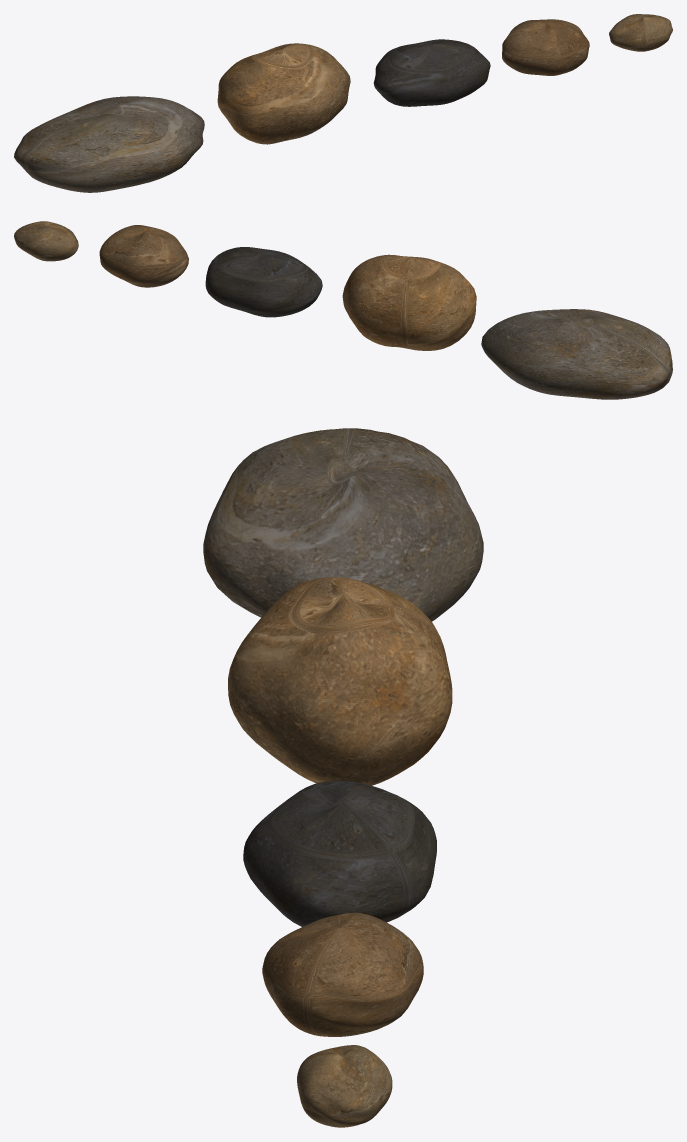
The picture shows the model from 3 angles, top to bottom: view 1: azimuth 30°, elevation 25°; view 2: azimuth 150°, elevation 25°; view 3: azimuth 270°, elevation 25°; orthographic projection. The views are drawn at different scales.
Visible parts, largest first — view 1: RiverPebble_01, RiverPebble_02, RiverPebble_03, RiverPebble_04, RiverPebble_05; view 2: RiverPebble_01, RiverPebble_02, RiverPebble_03, RiverPebble_04, RiverPebble_05; view 3: RiverPebble_01, RiverPebble_02, RiverPebble_03, RiverPebble_04, RiverPebble_05.
Part boxes in pixels (bbox=[...]): RiverPebble_01: bbox=[14, 96, 204, 192]; RiverPebble_02: bbox=[217, 43, 350, 144]; RiverPebble_03: bbox=[373, 39, 490, 106]; RiverPebble_04: bbox=[502, 19, 589, 75]; RiverPebble_05: bbox=[609, 14, 672, 51]; RiverPebble_01: bbox=[481, 309, 672, 399]; RiverPebble_02: bbox=[342, 254, 476, 350]; RiverPebble_03: bbox=[205, 247, 322, 317]; RiverPebble_04: bbox=[99, 225, 188, 287]; RiverPebble_05: bbox=[14, 221, 78, 261]; RiverPebble_01: bbox=[203, 428, 483, 621]; RiverPebble_02: bbox=[228, 577, 452, 785]; RiverPebble_03: bbox=[243, 780, 436, 926]; RiverPebble_04: bbox=[262, 912, 423, 1036]; RiverPebble_05: bbox=[297, 1045, 392, 1127].
Bounding box in the file's own units: 3.96 × 0.5078 × 0.7421.
Materials: 5 (5 with a texture image).
